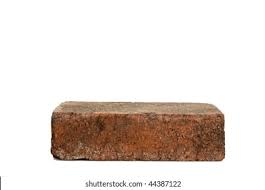brick: (53, 107, 224, 160)
